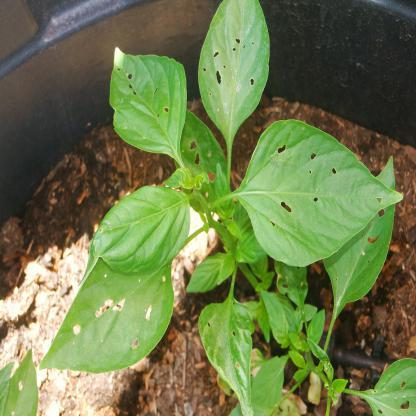Bell_pepper leaf spot: (244, 118, 403, 266), (102, 42, 185, 162), (195, 2, 266, 141), (90, 193, 192, 274), (194, 294, 256, 416)
